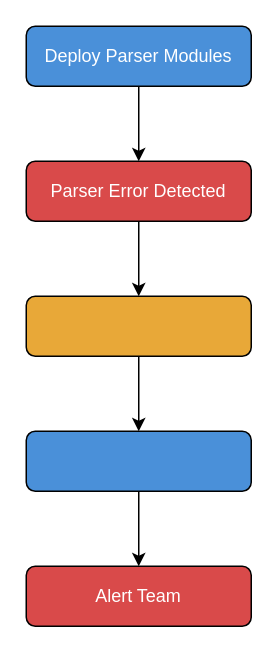
Some shapes in this 278 by 653 pixel diagram are drawn without their labels. Each missing label, with the centre of its shape:
"Restore Previous AST" belongs at point (138, 460).
"Revert to Previous Version" belongs at point (138, 325).
